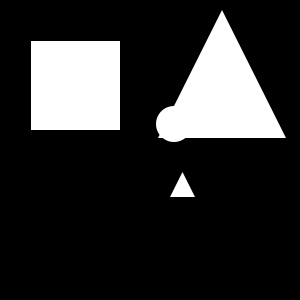circle: (31, 41, 120, 130)
rectangle: (156, 106, 192, 142)
triangle: (158, 10, 286, 138), (169, 24, 279, 134), (170, 172, 195, 197)
